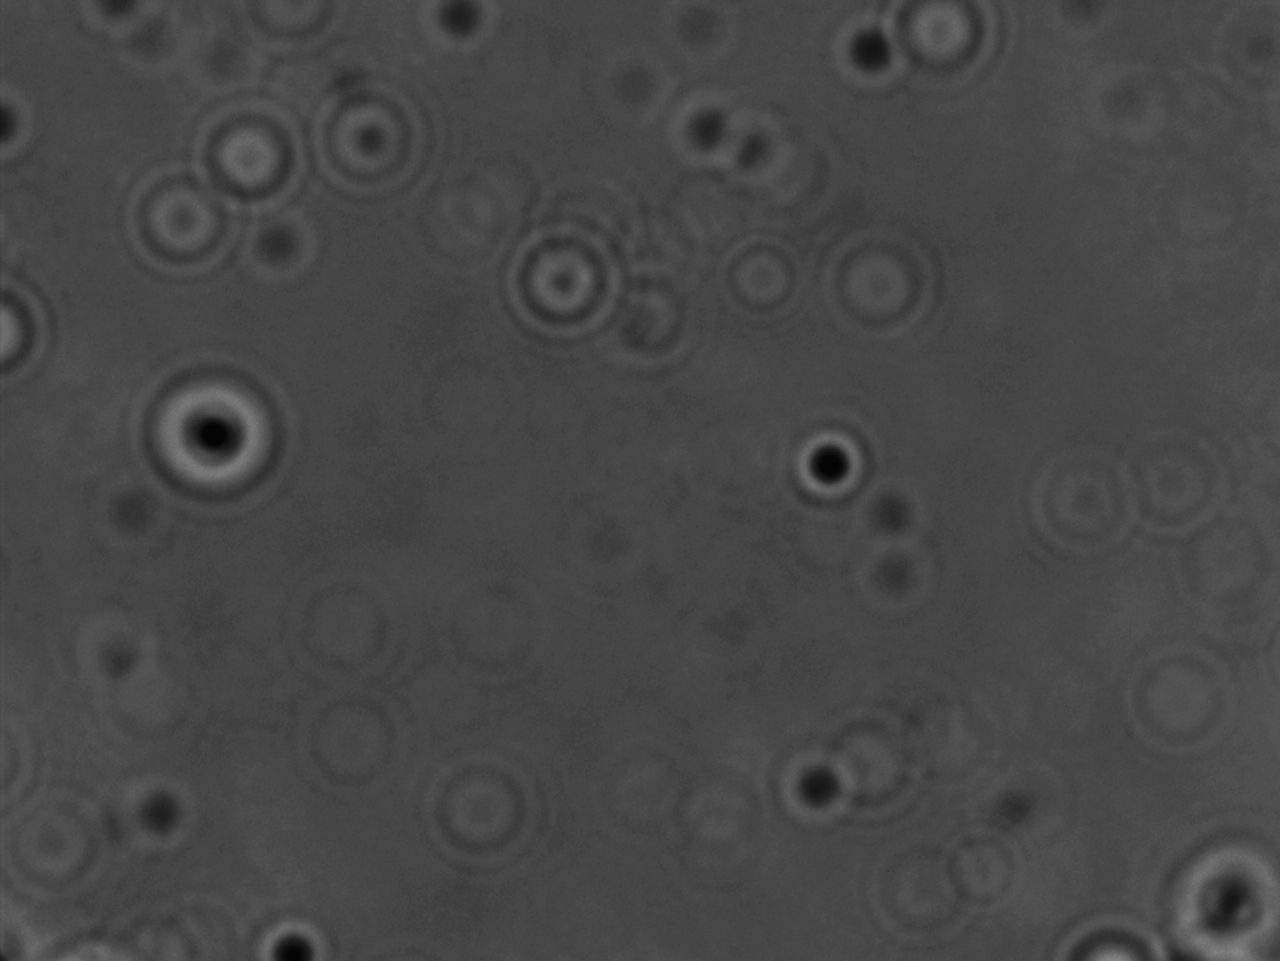depth:-24: (136, 360, 278, 515)
